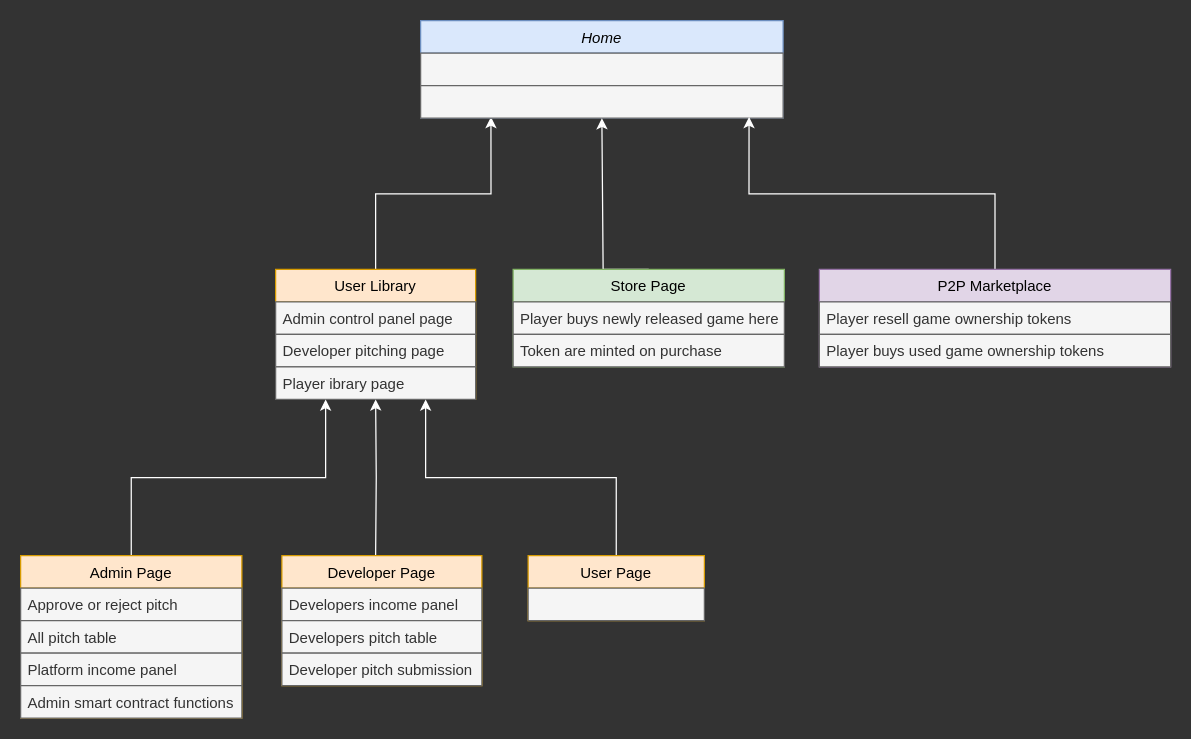
Some shapes in this 1191 by 739 pixel diagram are drawn without their labels. The shapes that lost their labels are listed below. From the top down, each one's centre as x and y in pixels, then its label:
At point 601,69: "User info".
At point 601,101: "Smart contract instance".
At point 615,604: "User game library".
